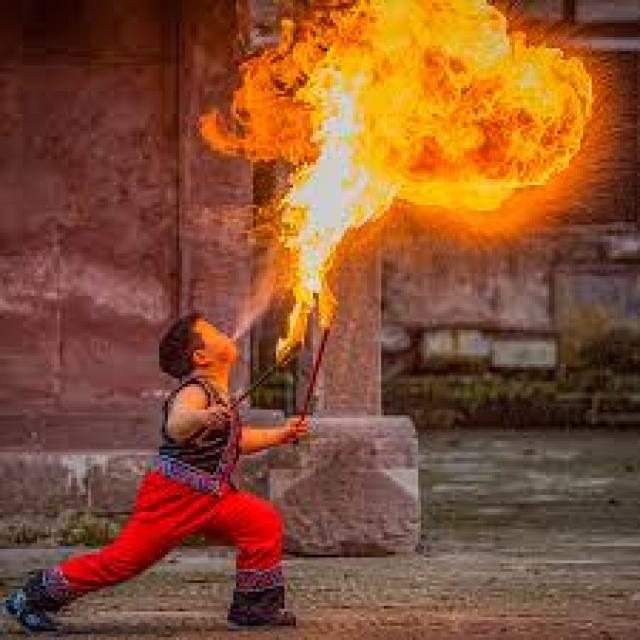fire: (196, 0, 594, 209), (273, 209, 394, 366)
